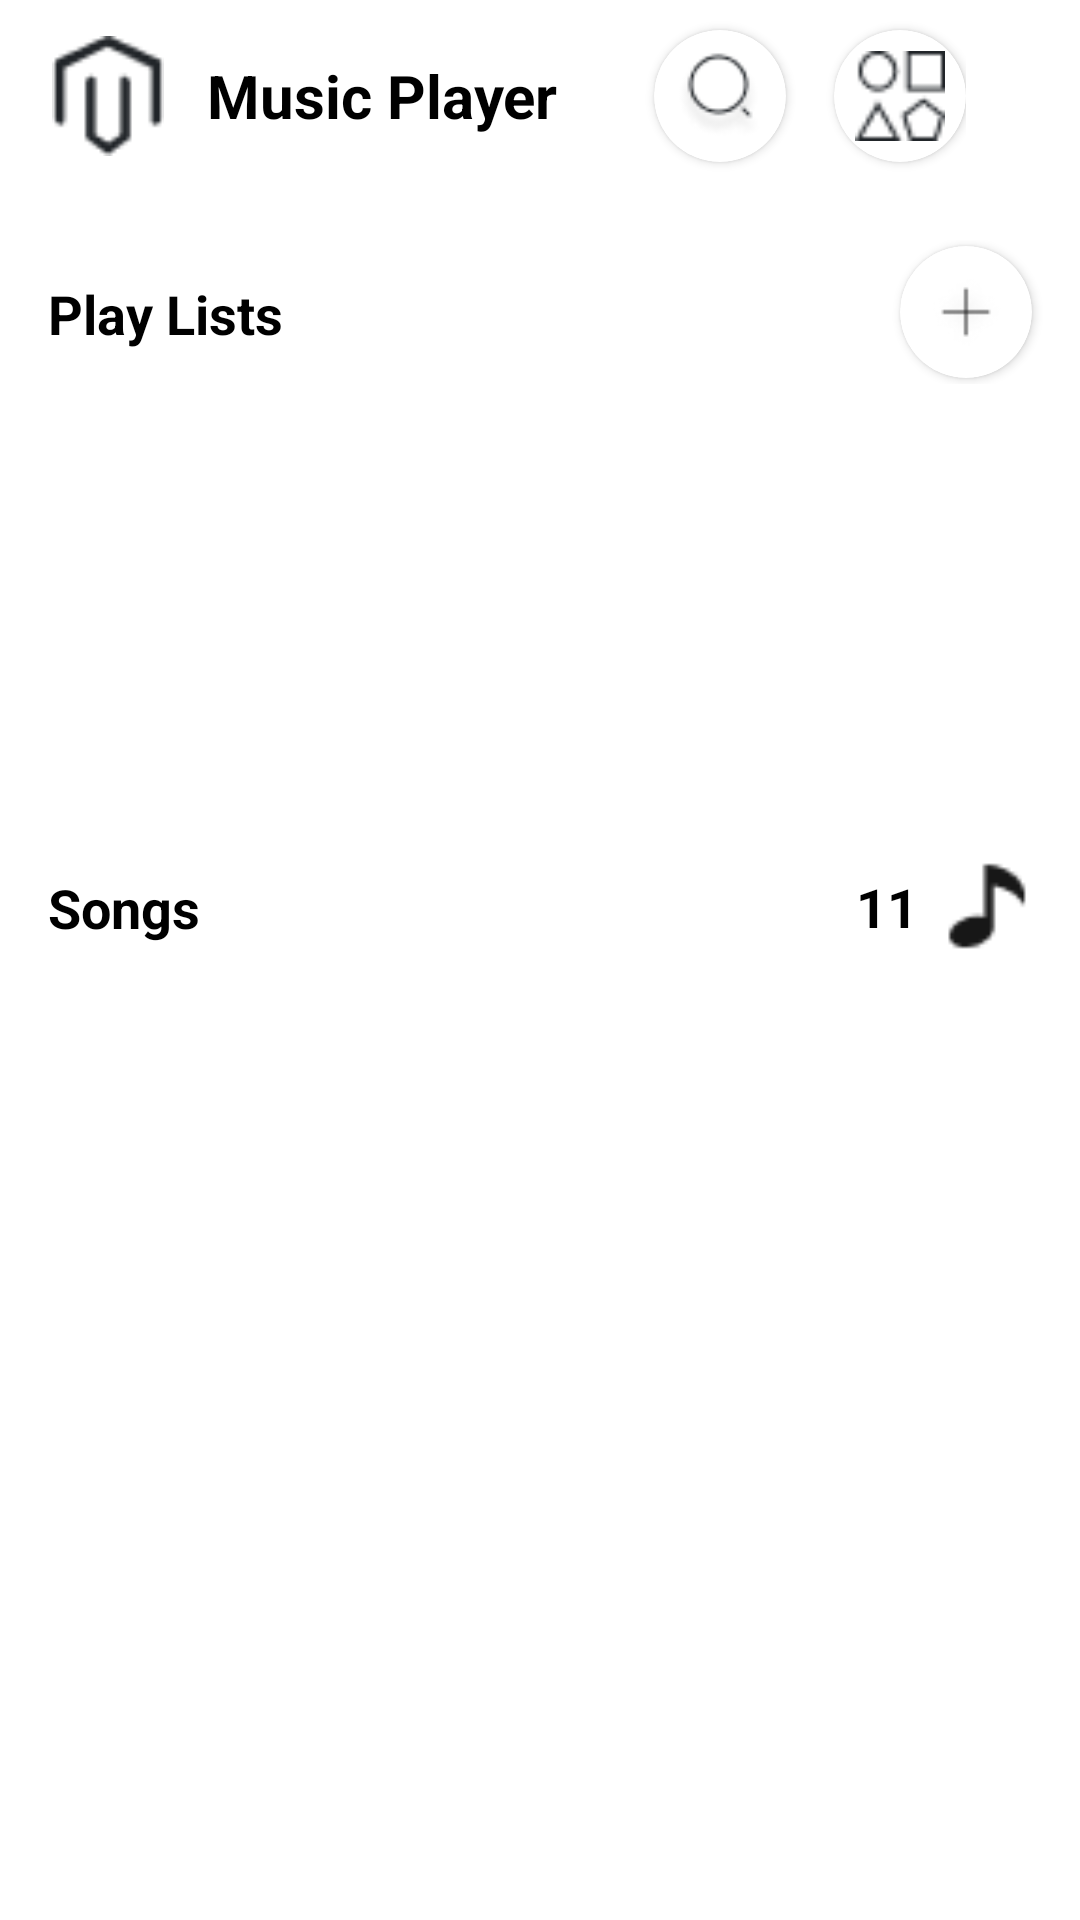

Point at icon controls on the screen. Image size 1080 x 1920, points as point (x, y).
addd: point (983, 303)
categories: point (900, 96)
search: point (719, 85)
songs: point (987, 906)
